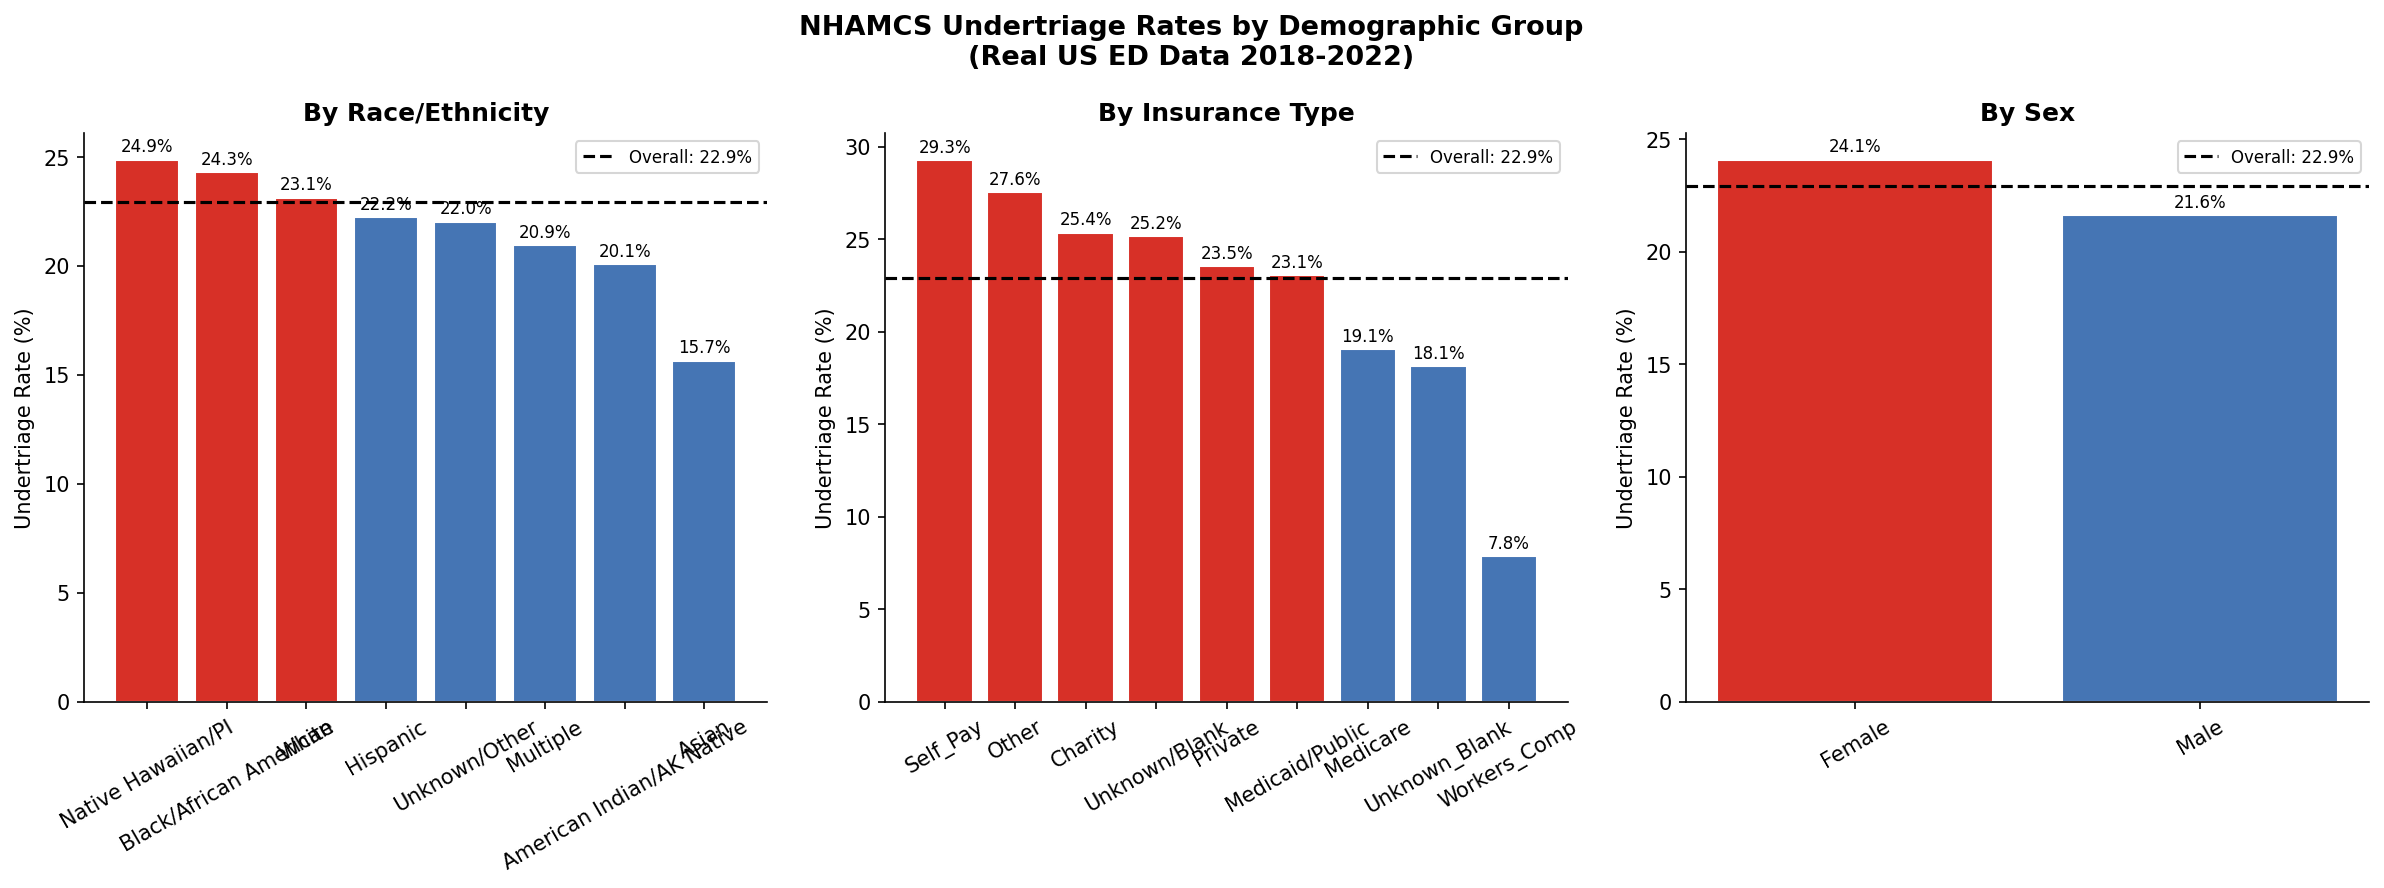

The page's visual inventory and layout, read from the dashboard file:
{"tool":"powerbi","page":{"name":"Page 2","canvas":[1280,720],"ordinal":1},"visuals":[{"type":"clusteredBarChart","fields":{"Category":["nhamcs_bias_race.race"],"Y":["Avg(nhamcs_bias_race.rate)"]},"box":[0,45.2,629.8,280],"z":0},{"type":"clusteredBarChart","fields":{"Category":["nhamcs_bias_insurance.insurance"],"Y":["Avg(nhamcs_bias_insurance.rate)"]},"box":[639.5,45.2,640.8,280],"z":1000},{"type":"clusteredBarChart","fields":{"Category":["nhamcs_bias_sex.sex"],"Y":["Avg(nhamcs_bias_sex.rate)"]},"box":[0,325.3,639.5,280],"z":2000},{"type":"textbox","box":[0,0,629.8,45.2],"z":3000}]}

Visuals, with their boxes on the page's 1280x720 design canvas (x1, y1, x2, y2). These are canvas units, not pixel positions in the 2384x888 screenshot, which may show the page scaled, cropped or inside an application window:
clusteredBarChart - nhamcs_bias_race.race x Avg(nhamcs_bias_race.rate): [0, 45, 630, 325]
clusteredBarChart - nhamcs_bias_insurance.insurance x Avg(nhamcs_bias_insurance.rate): [640, 45, 1280, 325]
clusteredBarChart - nhamcs_bias_sex.sex x Avg(nhamcs_bias_sex.rate): [0, 325, 640, 605]
textbox: [0, 0, 630, 45]
